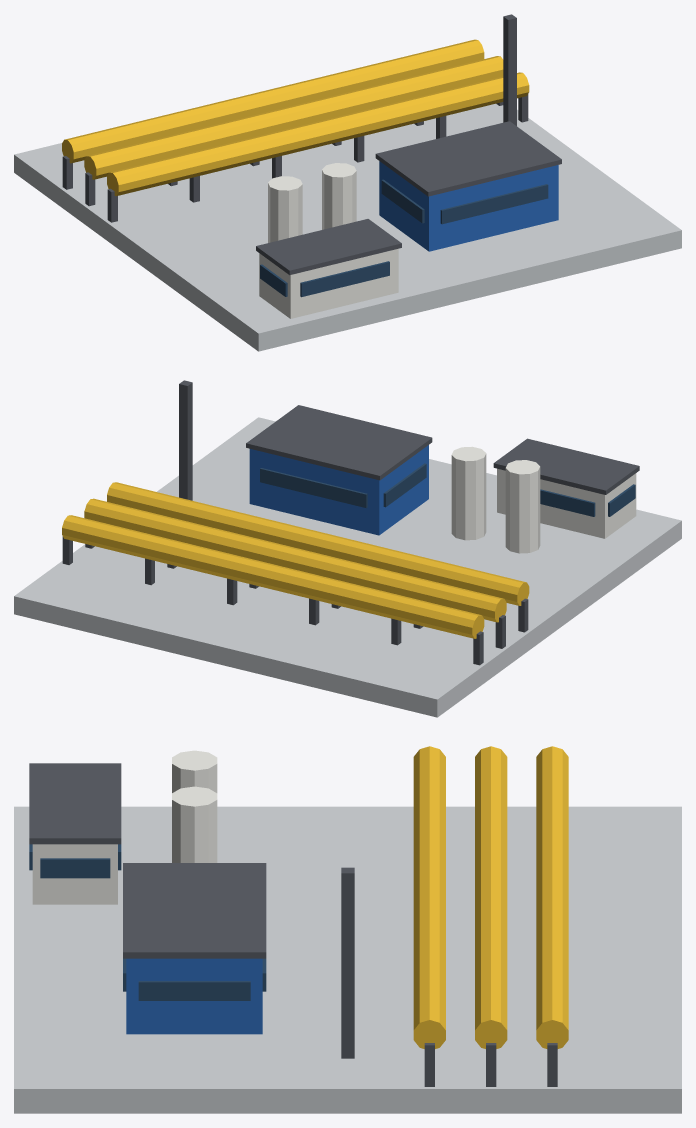
File: gas_income_3.glb
3 renders of one model, top to bottom at view 1: azimuth 30°, elevation 25°; view 2: azimuth 150°, elevation 25°; view 3: azimuth 270°, elevation 25°, orthographic. The views are drawn at different scales.
Visible parts, largest first — view 1: gas_income_3; view 2: gas_income_3; view 3: gas_income_3.
Part boxes in pixels (x1,y1,x2,y2): gas_income_3: [14, 14, 681, 351]; gas_income_3: [14, 380, 681, 717]; gas_income_3: [14, 746, 681, 1113].
Bounding box in the file's own units: 1.96 × 0.68 × 1.96.
